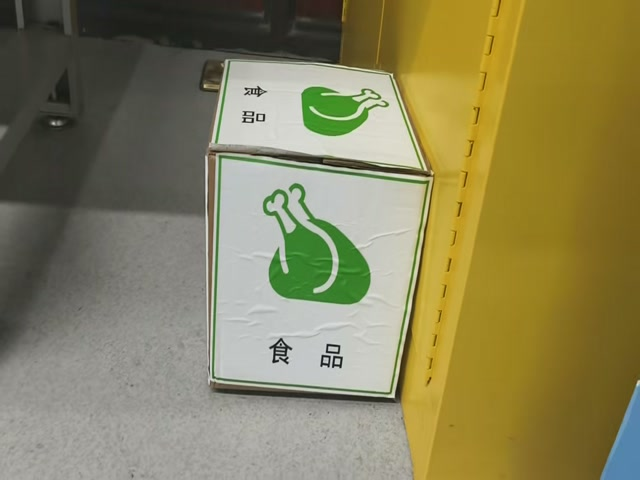Cube_food: (209, 60, 426, 164)
